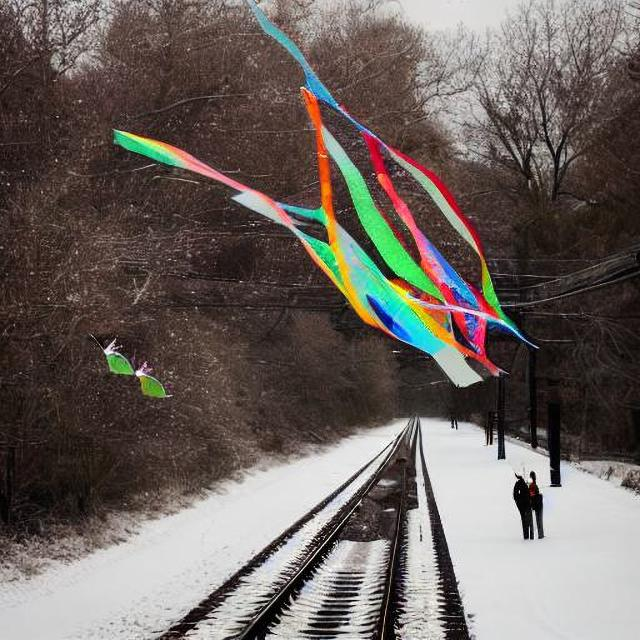floating object: (85, 1, 549, 406)
